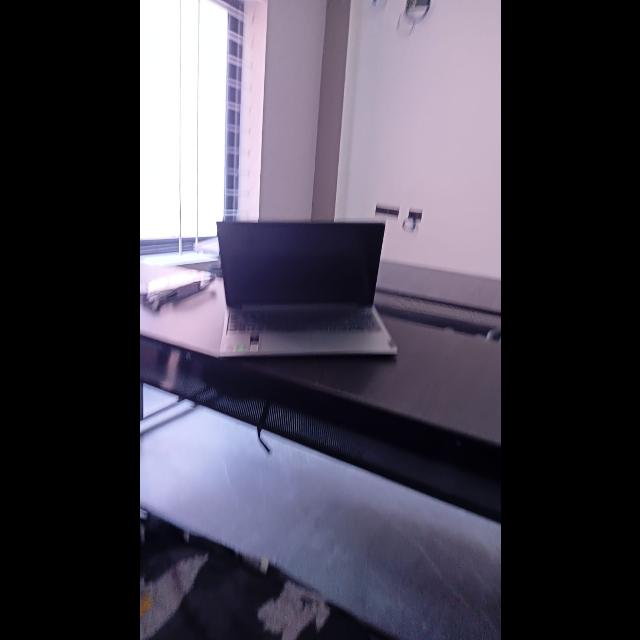laptop: (215, 215, 413, 373)
